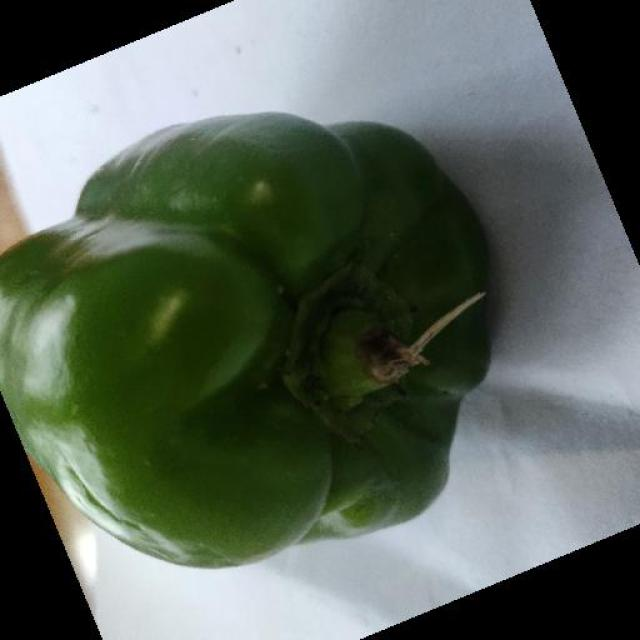Fresh_Capsicum: (16, 117, 542, 576)
